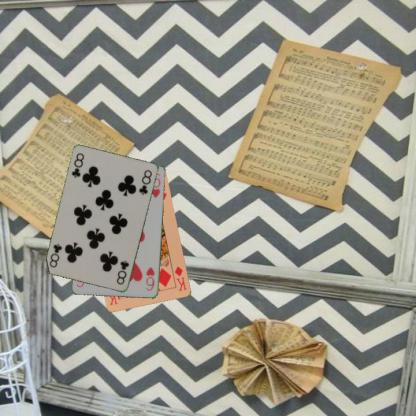6h: (143, 265, 156, 292)
8c: (114, 258, 130, 286), (70, 151, 86, 179)
Kd: (172, 263, 188, 292)
